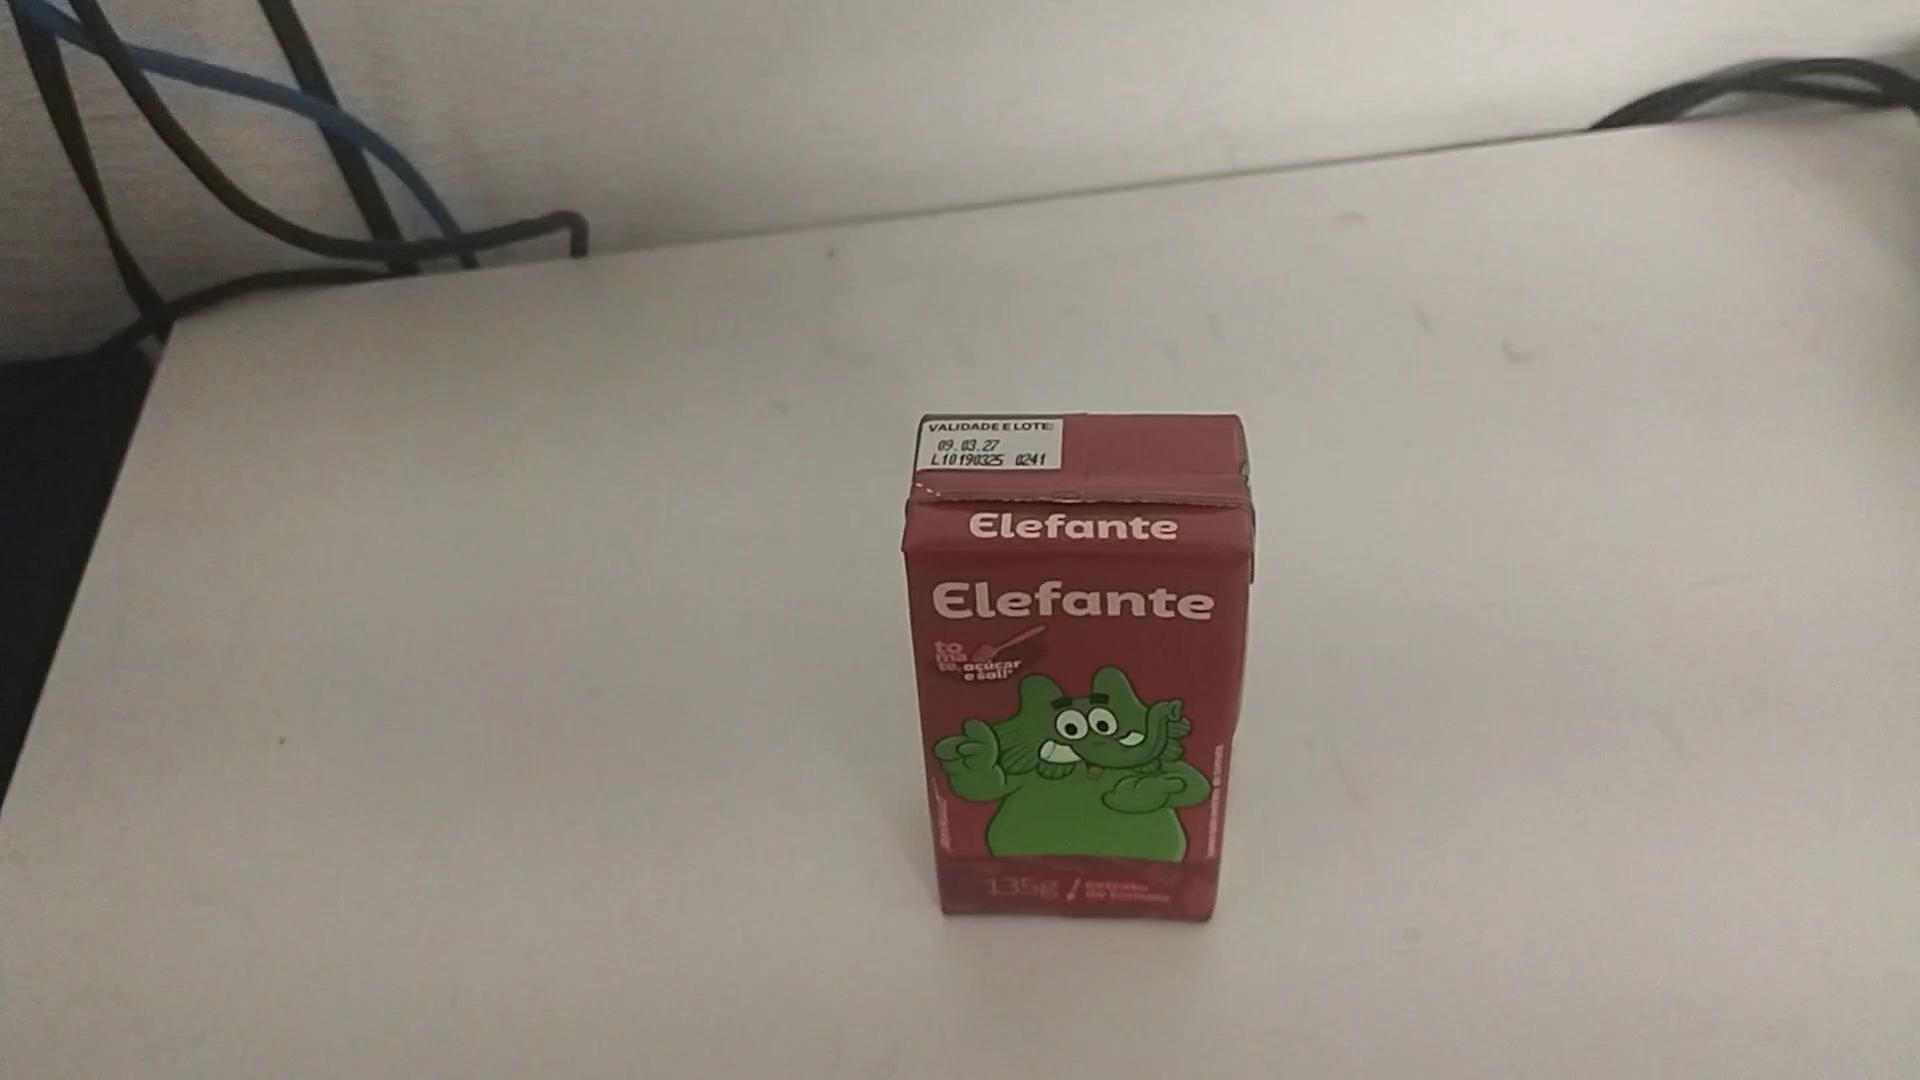tomate: (889, 400, 1258, 923)
